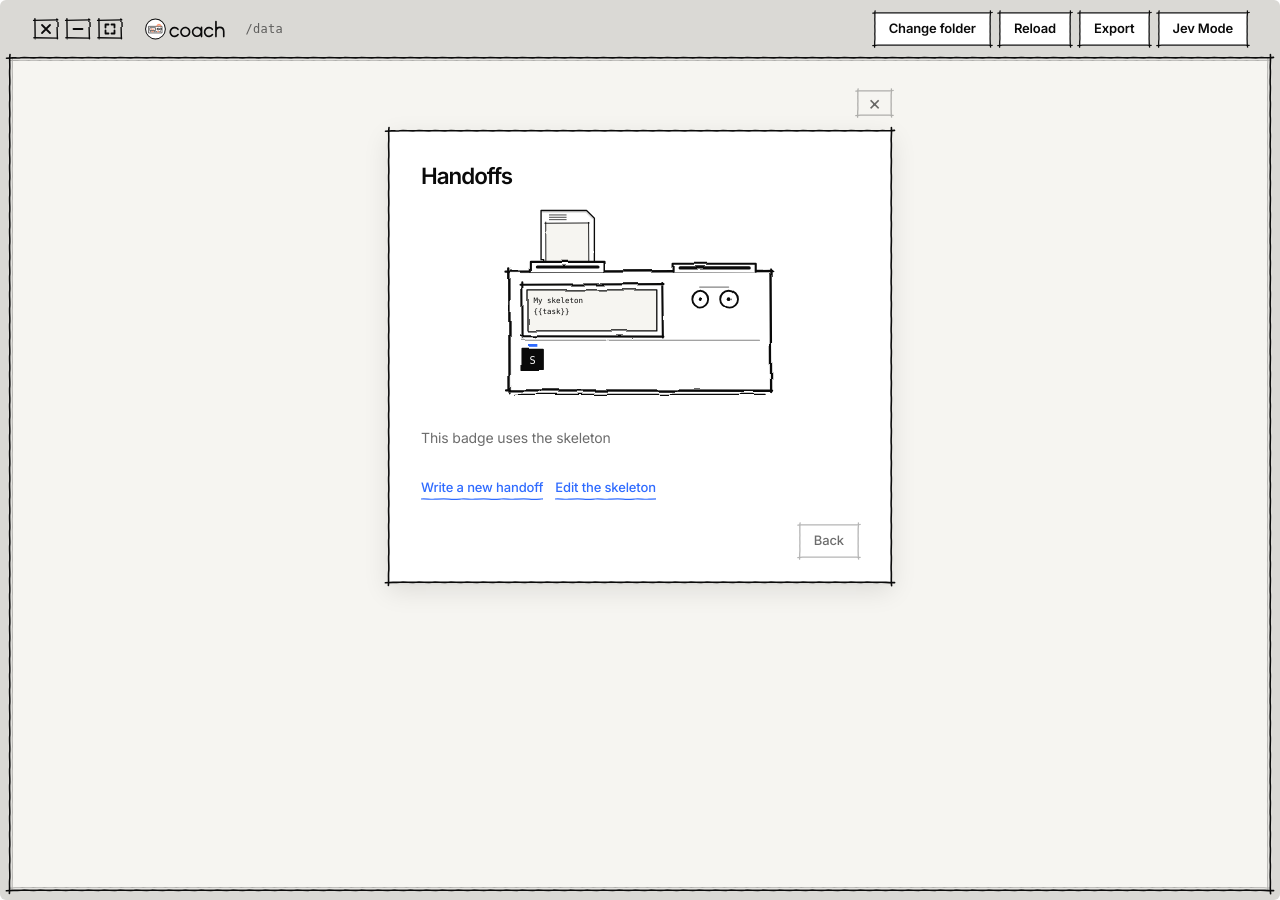
the handoff editor › a new handoff starts with the skeleton's text
The image size is (1280, 900).
Click the button "Write a new handoff". click: (482, 489)
box: [421,478,543,500]
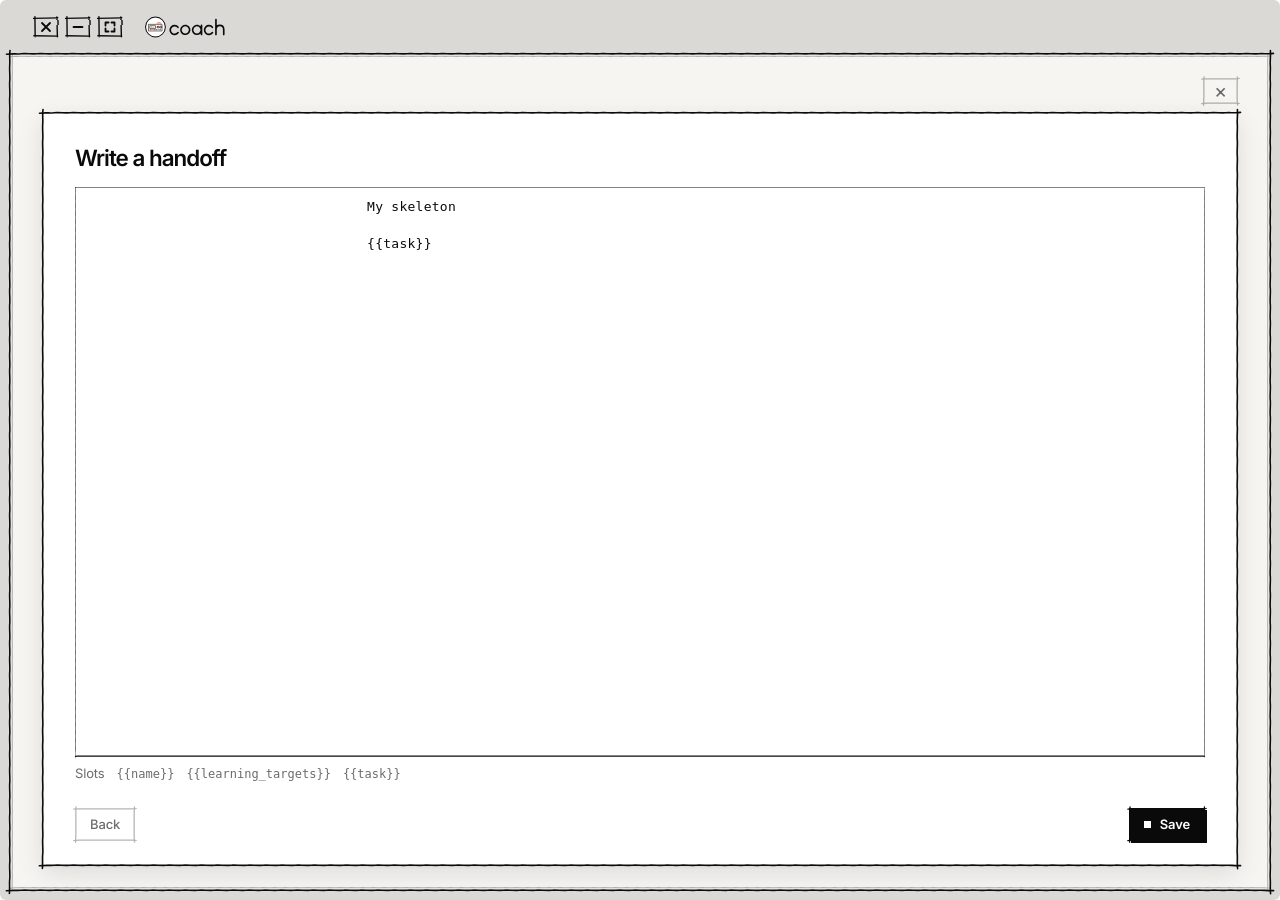
Now the heading "Write a handoff" is shown, box [75,144,226,171]
Click the button "Save". click: (1167, 824)
box: [1129,808,1205,841]
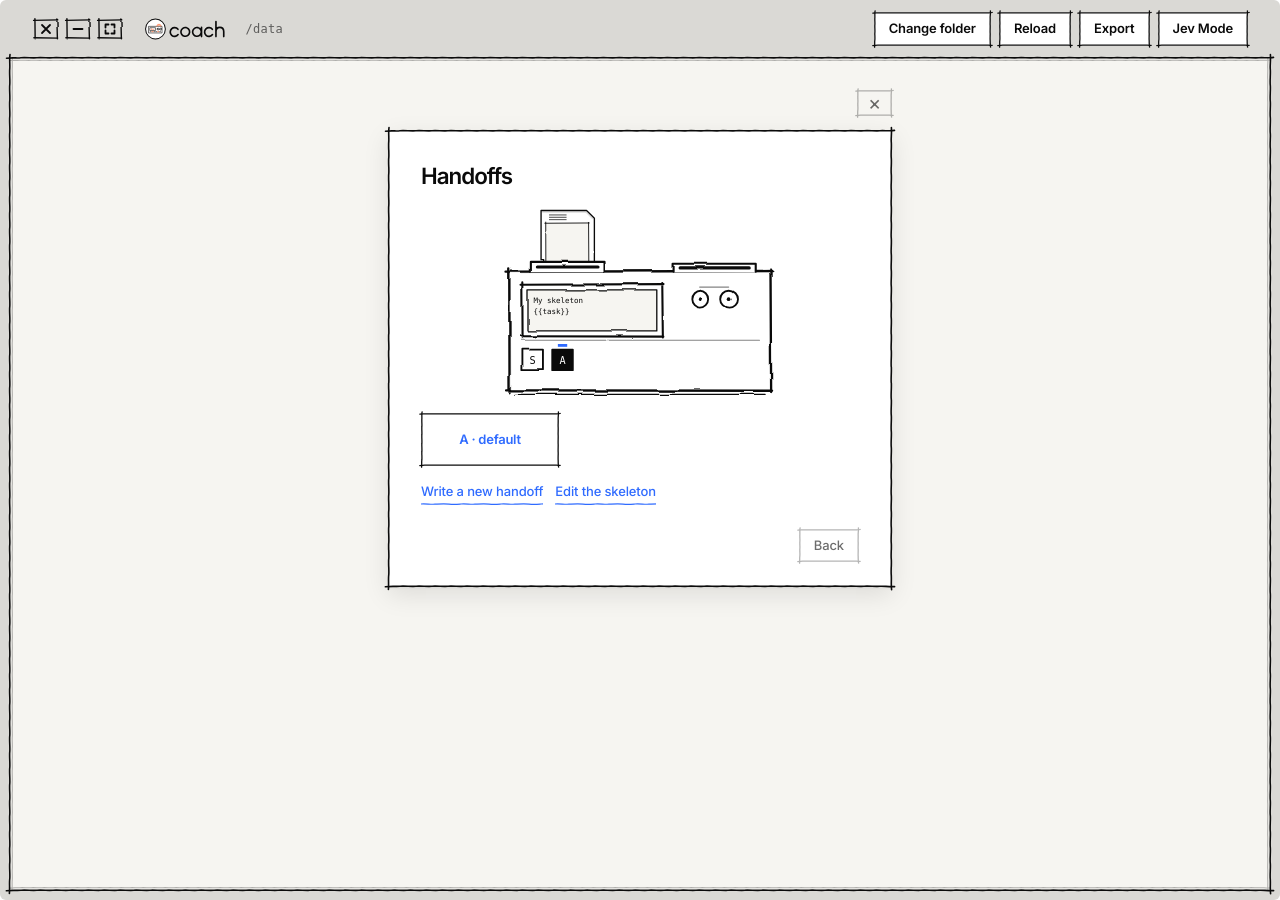
Now the button "A · default" is shown, box [421,412,559,466]
